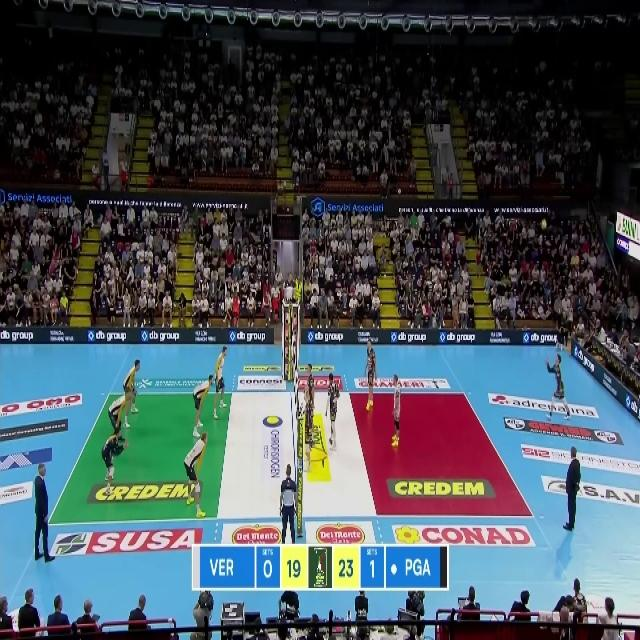volleyball court: (50, 389, 532, 527)
